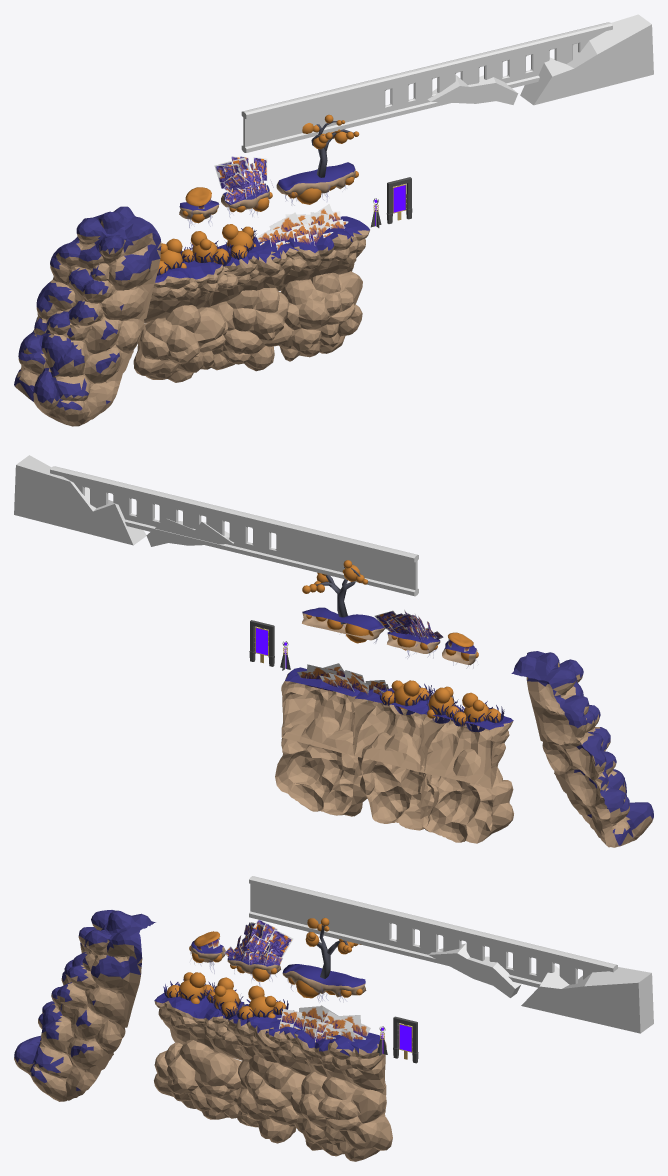
Rendered from LevelPrefabModels.fbx.
The picture shows the model from 3 angles, top to bottom: view 1: azimuth 30°, elevation 25°; view 2: azimuth 150°, elevation 25°; view 3: azimuth 330°, elevation 25°; orthographic projection.
Visible parts, largest first — view 1: TerrainSlope1, Debris1, Cube.001, UndergroundChunk3, UndergroundChunk1, UndergroundChunk2, TerrainChunk3, TerrainChunk1, TerrainChunk2, GrassPatch, Platform.6.5, BushPatch (+7 smaller); view 2: Debris1, TerrainSlope1, Cube.001, UndergroundChunk3, UndergroundChunk1, UndergroundChunk2, TerrainChunk3, TerrainChunk1, TerrainChunk2, Platform.6.5, GrassPatch, PlantSucculent1 (+7 smaller); view 3: TerrainSlope1, Debris1, Cube.001, UndergroundChunk3, UndergroundChunk1, UndergroundChunk2, TerrainChunk3, TerrainChunk1, TerrainChunk2, GrassPatch, Platform.6.5, BushPatch (+7 smaller).
Part boxes in pixels (x1,y1,x2,y2): TerrainSlope1: [14, 206, 161, 426]; Debris1: [241, 22, 612, 152]; Cube.001: [427, 14, 653, 105]; UndergroundChunk3: [279, 271, 362, 361]; UndergroundChunk1: [133, 305, 228, 382]; UndergroundChunk2: [210, 287, 292, 371]; TerrainChunk3: [278, 216, 369, 291]; TerrainChunk1: [144, 260, 228, 323]; TerrainChunk2: [211, 237, 298, 305]; GrassPatch: [256, 204, 348, 250]; Platform.6.5: [276, 162, 358, 204]; BushPatch: [214, 156, 273, 205]; Debris1: [50, 466, 418, 596]; TerrainSlope1: [511, 651, 653, 847]; Cube.001: [14, 455, 233, 546]; UndergroundChunk3: [275, 716, 376, 816]; UndergroundChunk1: [420, 748, 513, 843]; UndergroundChunk2: [358, 732, 439, 830]; TerrainChunk3: [281, 667, 377, 755]; TerrainChunk1: [420, 705, 513, 789]; TerrainChunk2: [351, 688, 444, 772]; Platform.6.5: [302, 607, 384, 643]; GrassPatch: [297, 663, 388, 702]; PlantSucculent1: [451, 692, 504, 732]; TerrainSlope1: [14, 910, 155, 1101]; Debris1: [249, 876, 617, 987]; Cube.001: [428, 943, 653, 1033]; UndergroundChunk3: [290, 1071, 392, 1161]; UndergroundChunk1: [154, 1040, 241, 1119]; UndergroundChunk2: [233, 1055, 305, 1143]; TerrainChunk3: [290, 1028, 386, 1094]; TerrainChunk1: [154, 993, 244, 1060]; TerrainChunk2: [222, 1004, 311, 1075]; GrassPatch: [277, 1005, 370, 1042]; Platform.6.5: [282, 964, 366, 1001]; BushPatch: [224, 919, 293, 965].
Size of the model in its own units: 5306 by 2206 by 613.
